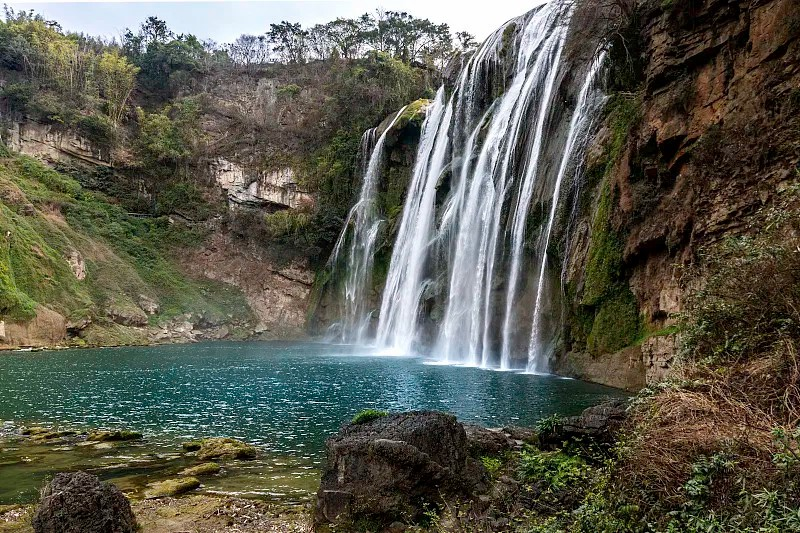Huangguoshu: (328, 1, 607, 375)
